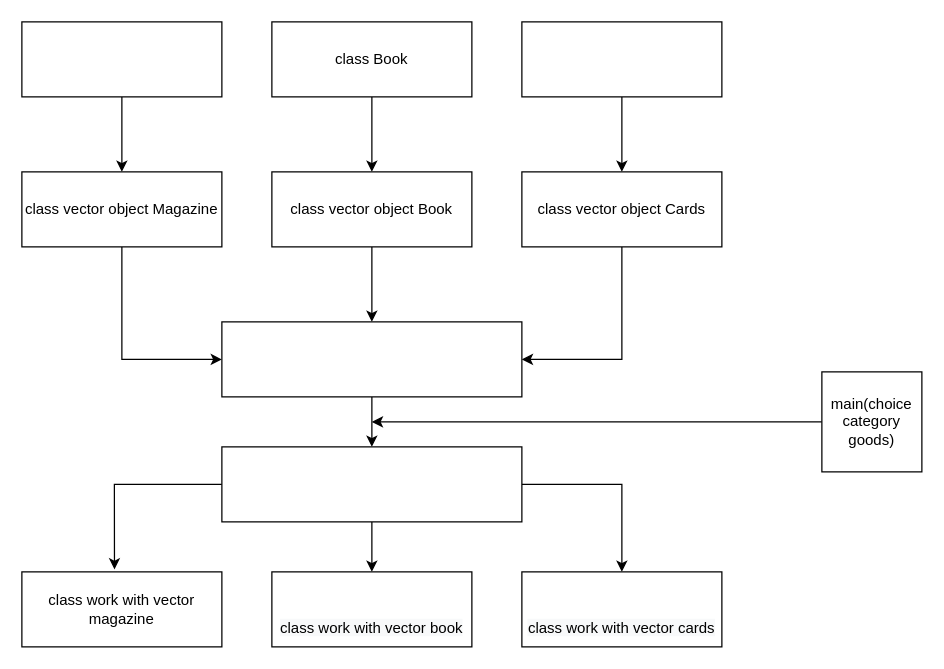
The diagram is 944 pixels wide and 669 high, and some of its shapes have lost their labels. The shapes that lost their labels are listed below. From the top down, each one's centre as x and y in pixels, then its label:
the point at 121,59: class Magazine
the point at 621,59: class Cards
the point at 371,359: class Read\Write vector out\in file
the point at 371,484: class categories goods
